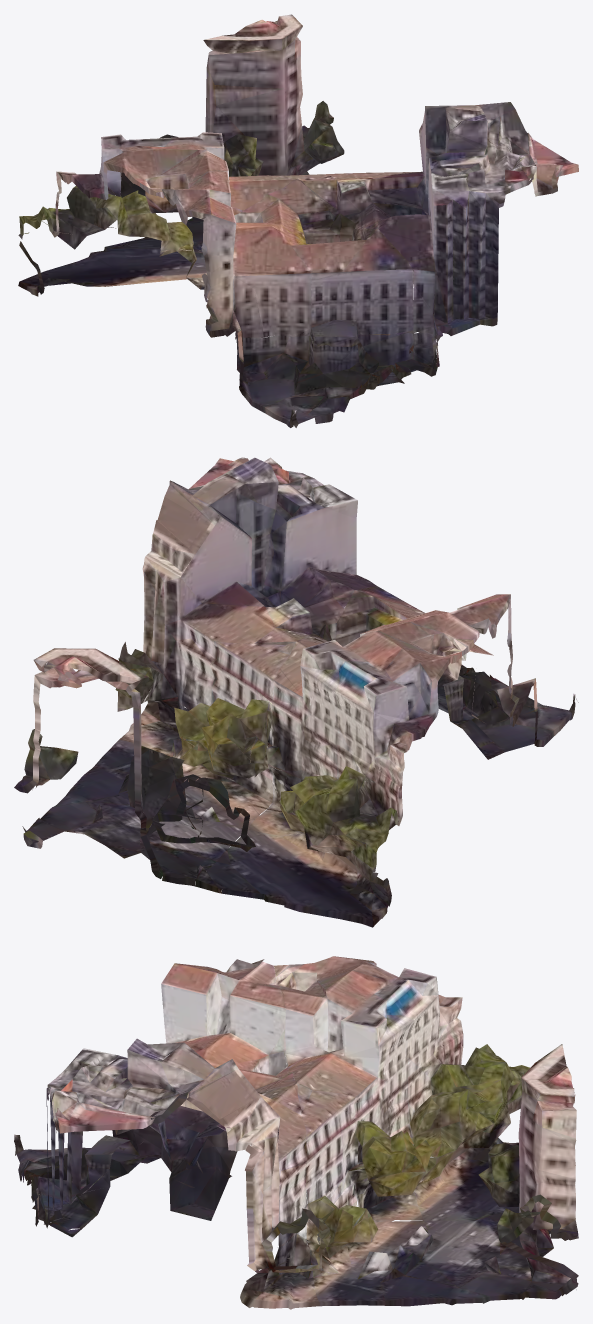
3 renders of one model, top to bottom at view 1: azimuth 30°, elevation 25°; view 2: azimuth 150°, elevation 25°; view 3: azimuth 270°, elevation 25°, orthographic. The views are drawn at different scales.
Visible parts, largest first — view 1: Mesh_0; view 2: Mesh_0; view 3: Mesh_0.
Part boxes in pixels (x1,y1,x2,y2): Mesh_0: [18, 14, 578, 427]; Mesh_0: [14, 457, 578, 927]; Mesh_0: [14, 956, 578, 1309].
Size of the model in its own units: 67.47 by 41.56 by 82.74.
1 material, 1 textured.
